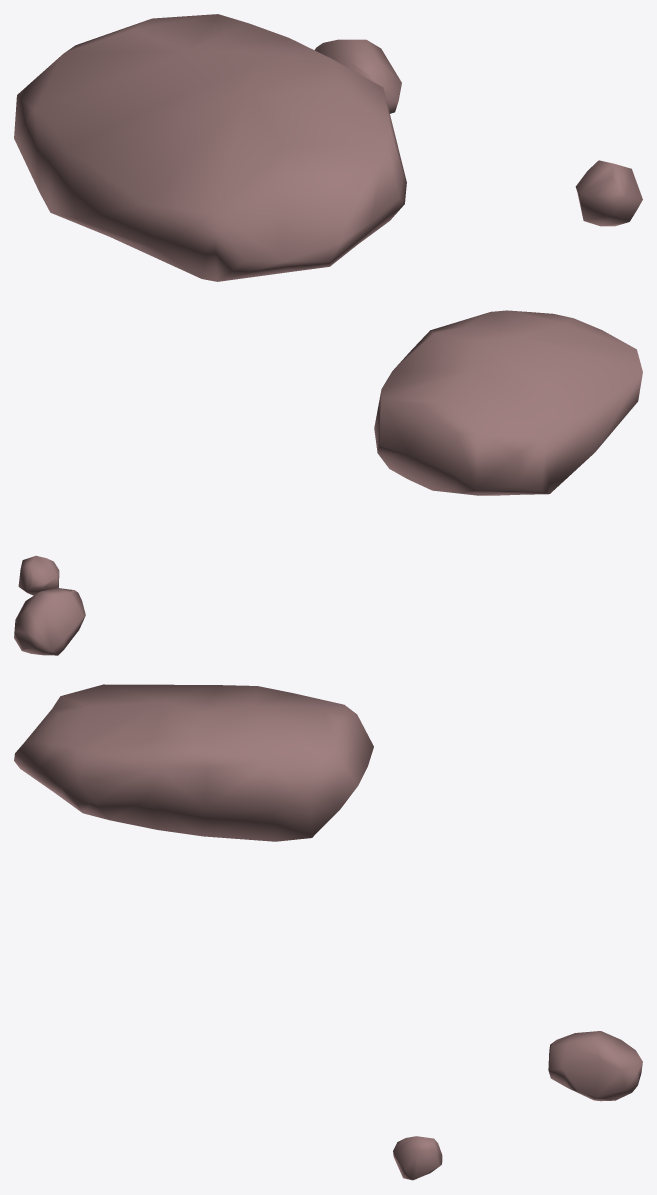
The model's file is cmc_smallrocks_low.fbx.
3 views of the same model, one above another, from view 1: azimuth 30°, elevation 25°; view 2: azimuth 150°, elevation 25°; view 3: azimuth 270°, elevation 25° (orthographic). The views are drawn at different scales.
Visible parts, largest first — view 1: small_rock_01, small_rock_02, small_rock_03; view 2: small_rock_01, small_rock_03, small_rock_02; view 3: small_rock_01, small_rock_03, small_rock_02.
Part boxes in pixels (left/top/right/bottom): small_rock_01: left=14, top=14, right=406, bottom=281; small_rock_02: left=575, top=160, right=642, bottom=226; small_rock_03: left=315, top=39, right=401, bottom=113; small_rock_01: left=374, top=310, right=642, bottom=495; small_rock_03: left=14, top=588, right=85, bottom=655; small_rock_02: left=18, top=555, right=59, bottom=595; small_rock_01: left=14, top=684, right=373, bottom=841; small_rock_03: left=548, top=1031, right=642, bottom=1101; small_rock_02: left=393, top=1136, right=442, bottom=1180.
Bounding box in the file's own units: 243 × 130 × 256.
